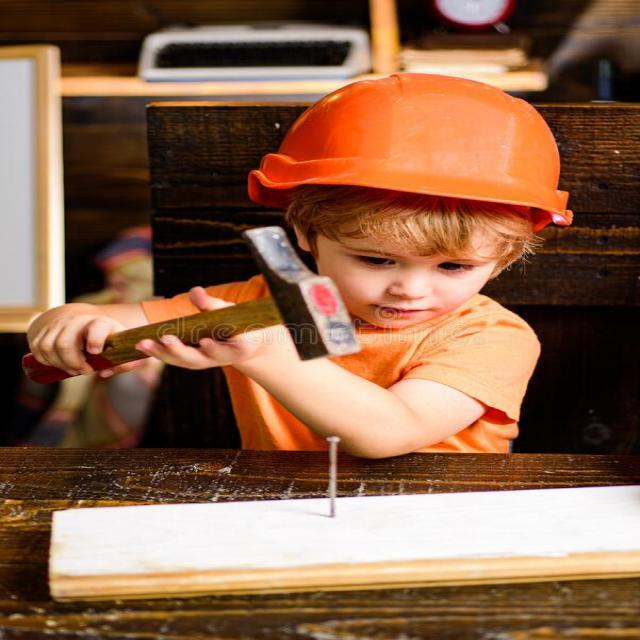hammer: (12, 216, 365, 396)
